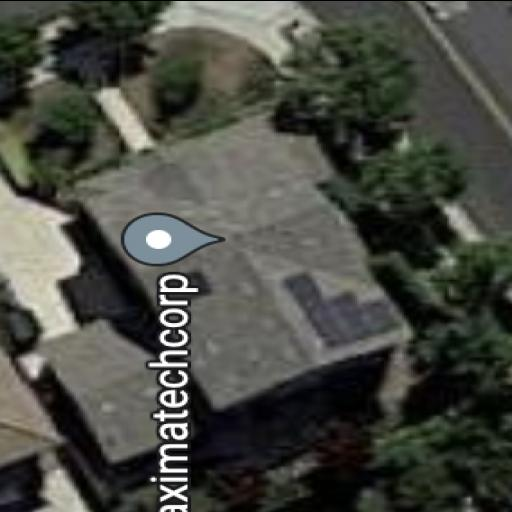Solar-Slope-Roof: (76, 105, 409, 405)
